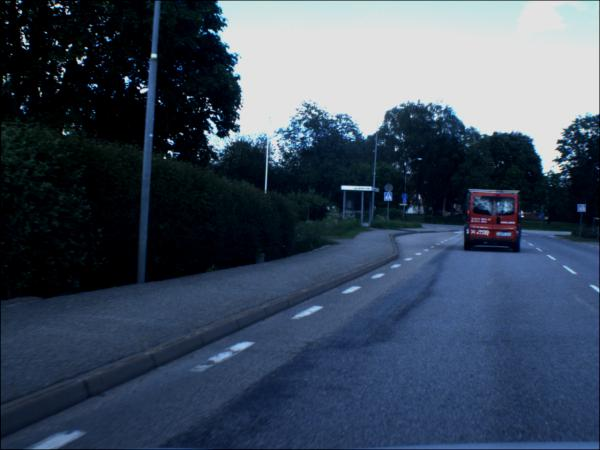PEDESTRIAN_CROSSING: (384, 193, 393, 203), (577, 205, 587, 214)
